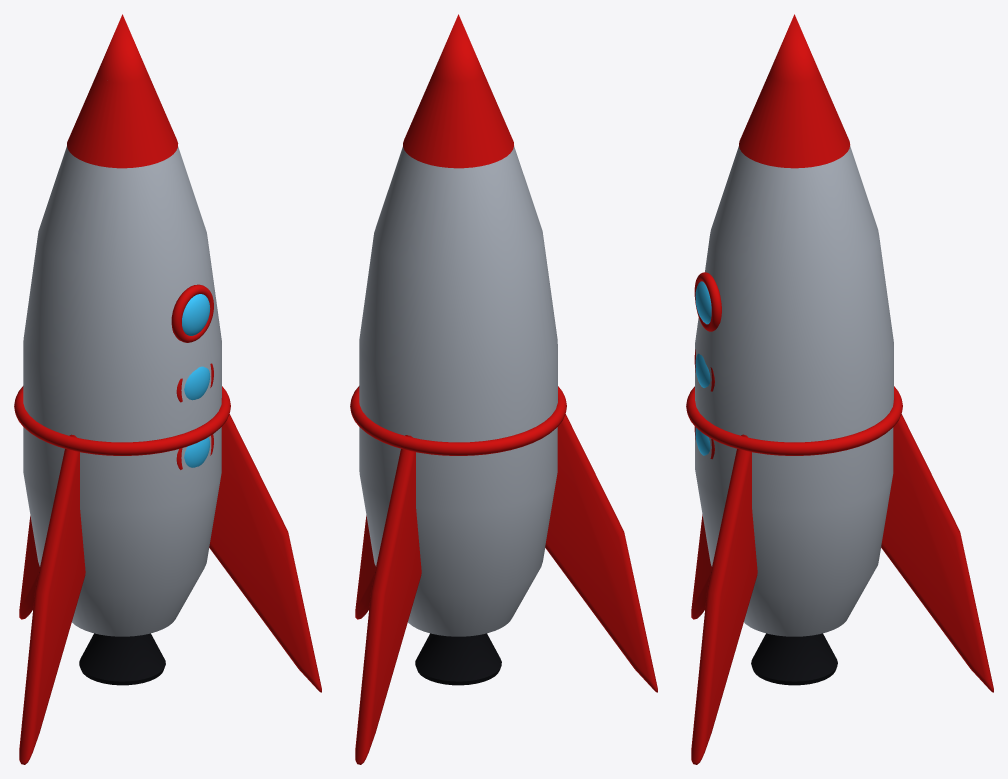
Rendered from Rocket_07_RetroClassic.obj.
3 renders of one model, left to right at view 1: azimuth 30°, elevation 25°; view 2: azimuth 150°, elevation 25°; view 3: azimuth 270°, elevation 25°, orthographic.
Parts seen in each view (by area): view 1: R07_Body, R07_Fin_3, R07_Fin_2, R07_Nose, R07_Nozzle, R07_Belt, R07_Fin, R07_WindowFrame, R07_Window, R07_Window_2, R07_Window_3; view 2: R07_Body, R07_Fin_2, R07_Fin, R07_Nose, R07_Nozzle, R07_Belt, R07_Fin_3; view 3: R07_Body, R07_Fin, R07_Fin_3, R07_Nose, R07_Nozzle, R07_Belt, R07_Fin_2, R07_WindowFrame, R07_Window.
Boxes of the visible parts, x1,y1,x2,y2 form: R07_Body: (23,146,221,636); R07_Fin_3: (209,398,321,692); R07_Fin_2: (19,434,85,764); R07_Nose: (67,14,178,168); R07_Nozzle: (79,633,165,685); R07_Belt: (14,386,230,455); R07_Fin: (19,516,39,619); R07_WindowFrame: (171,284,213,342); R07_Window: (182,294,210,335); R07_Window_2: (184,366,210,400); R07_Window_3: (184,437,209,467); R07_Body: (359,146,557,636); R07_Fin_2: (545,399,657,692); R07_Fin: (355,435,421,764); R07_Nose: (403,14,513,168); R07_Nozzle: (415,633,501,685); R07_Belt: (350,386,566,455); R07_Fin_3: (355,515,375,619); R07_Body: (695,146,893,636); R07_Fin: (881,399,993,692); R07_Fin_3: (691,434,757,764); R07_Nose: (739,14,850,168); R07_Nozzle: (751,633,837,685); R07_Belt: (686,386,902,455); R07_Fin_2: (691,514,711,619); R07_WindowFrame: (694,272,721,331); R07_Window: (695,281,711,324).
Size of the model in its own units: 3.49 by 7.52 by 3.09.
